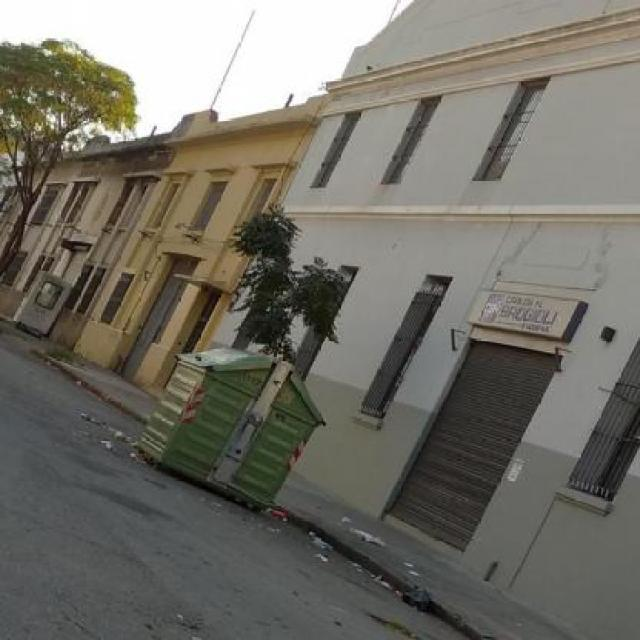garbage: (331, 500, 406, 559), (78, 411, 144, 457), (302, 520, 330, 562), (397, 579, 430, 614), (260, 503, 288, 530)
